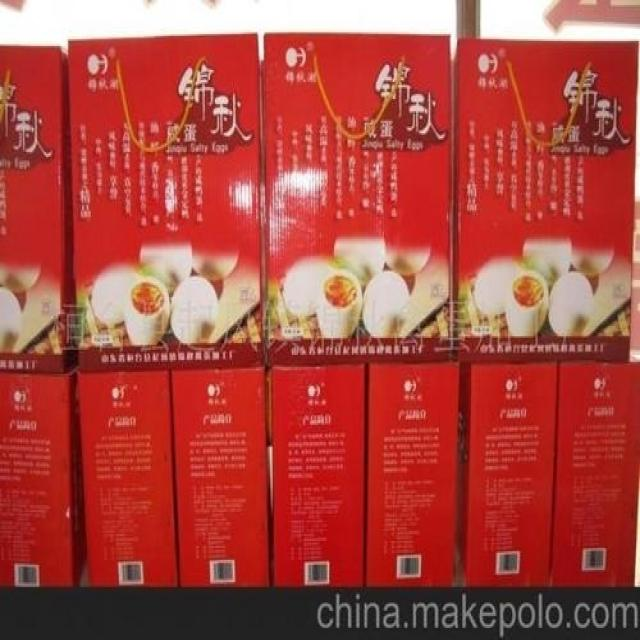box: (68, 32, 266, 374), (262, 32, 453, 370), (453, 39, 640, 362), (0, 44, 74, 375), (454, 362, 557, 585), (77, 370, 179, 589), (271, 362, 370, 585), (172, 367, 271, 587), (365, 360, 458, 585), (553, 360, 640, 587), (0, 369, 83, 587)
